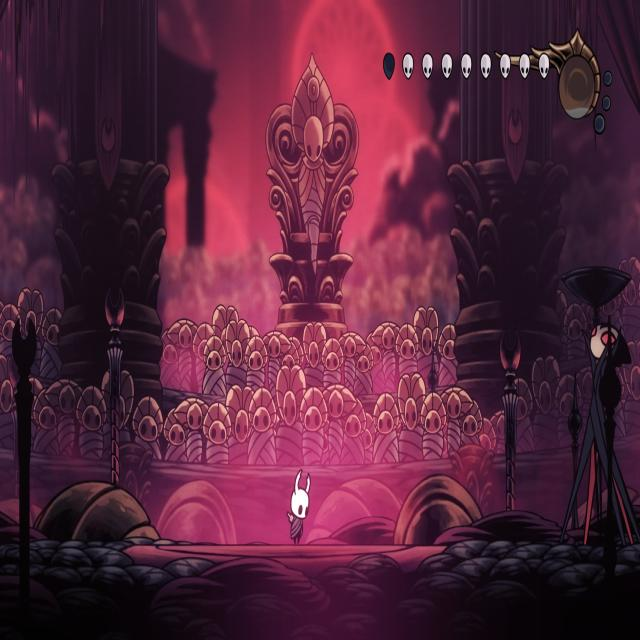Grimm: (561, 310, 640, 543)
Player: (283, 464, 310, 545)
